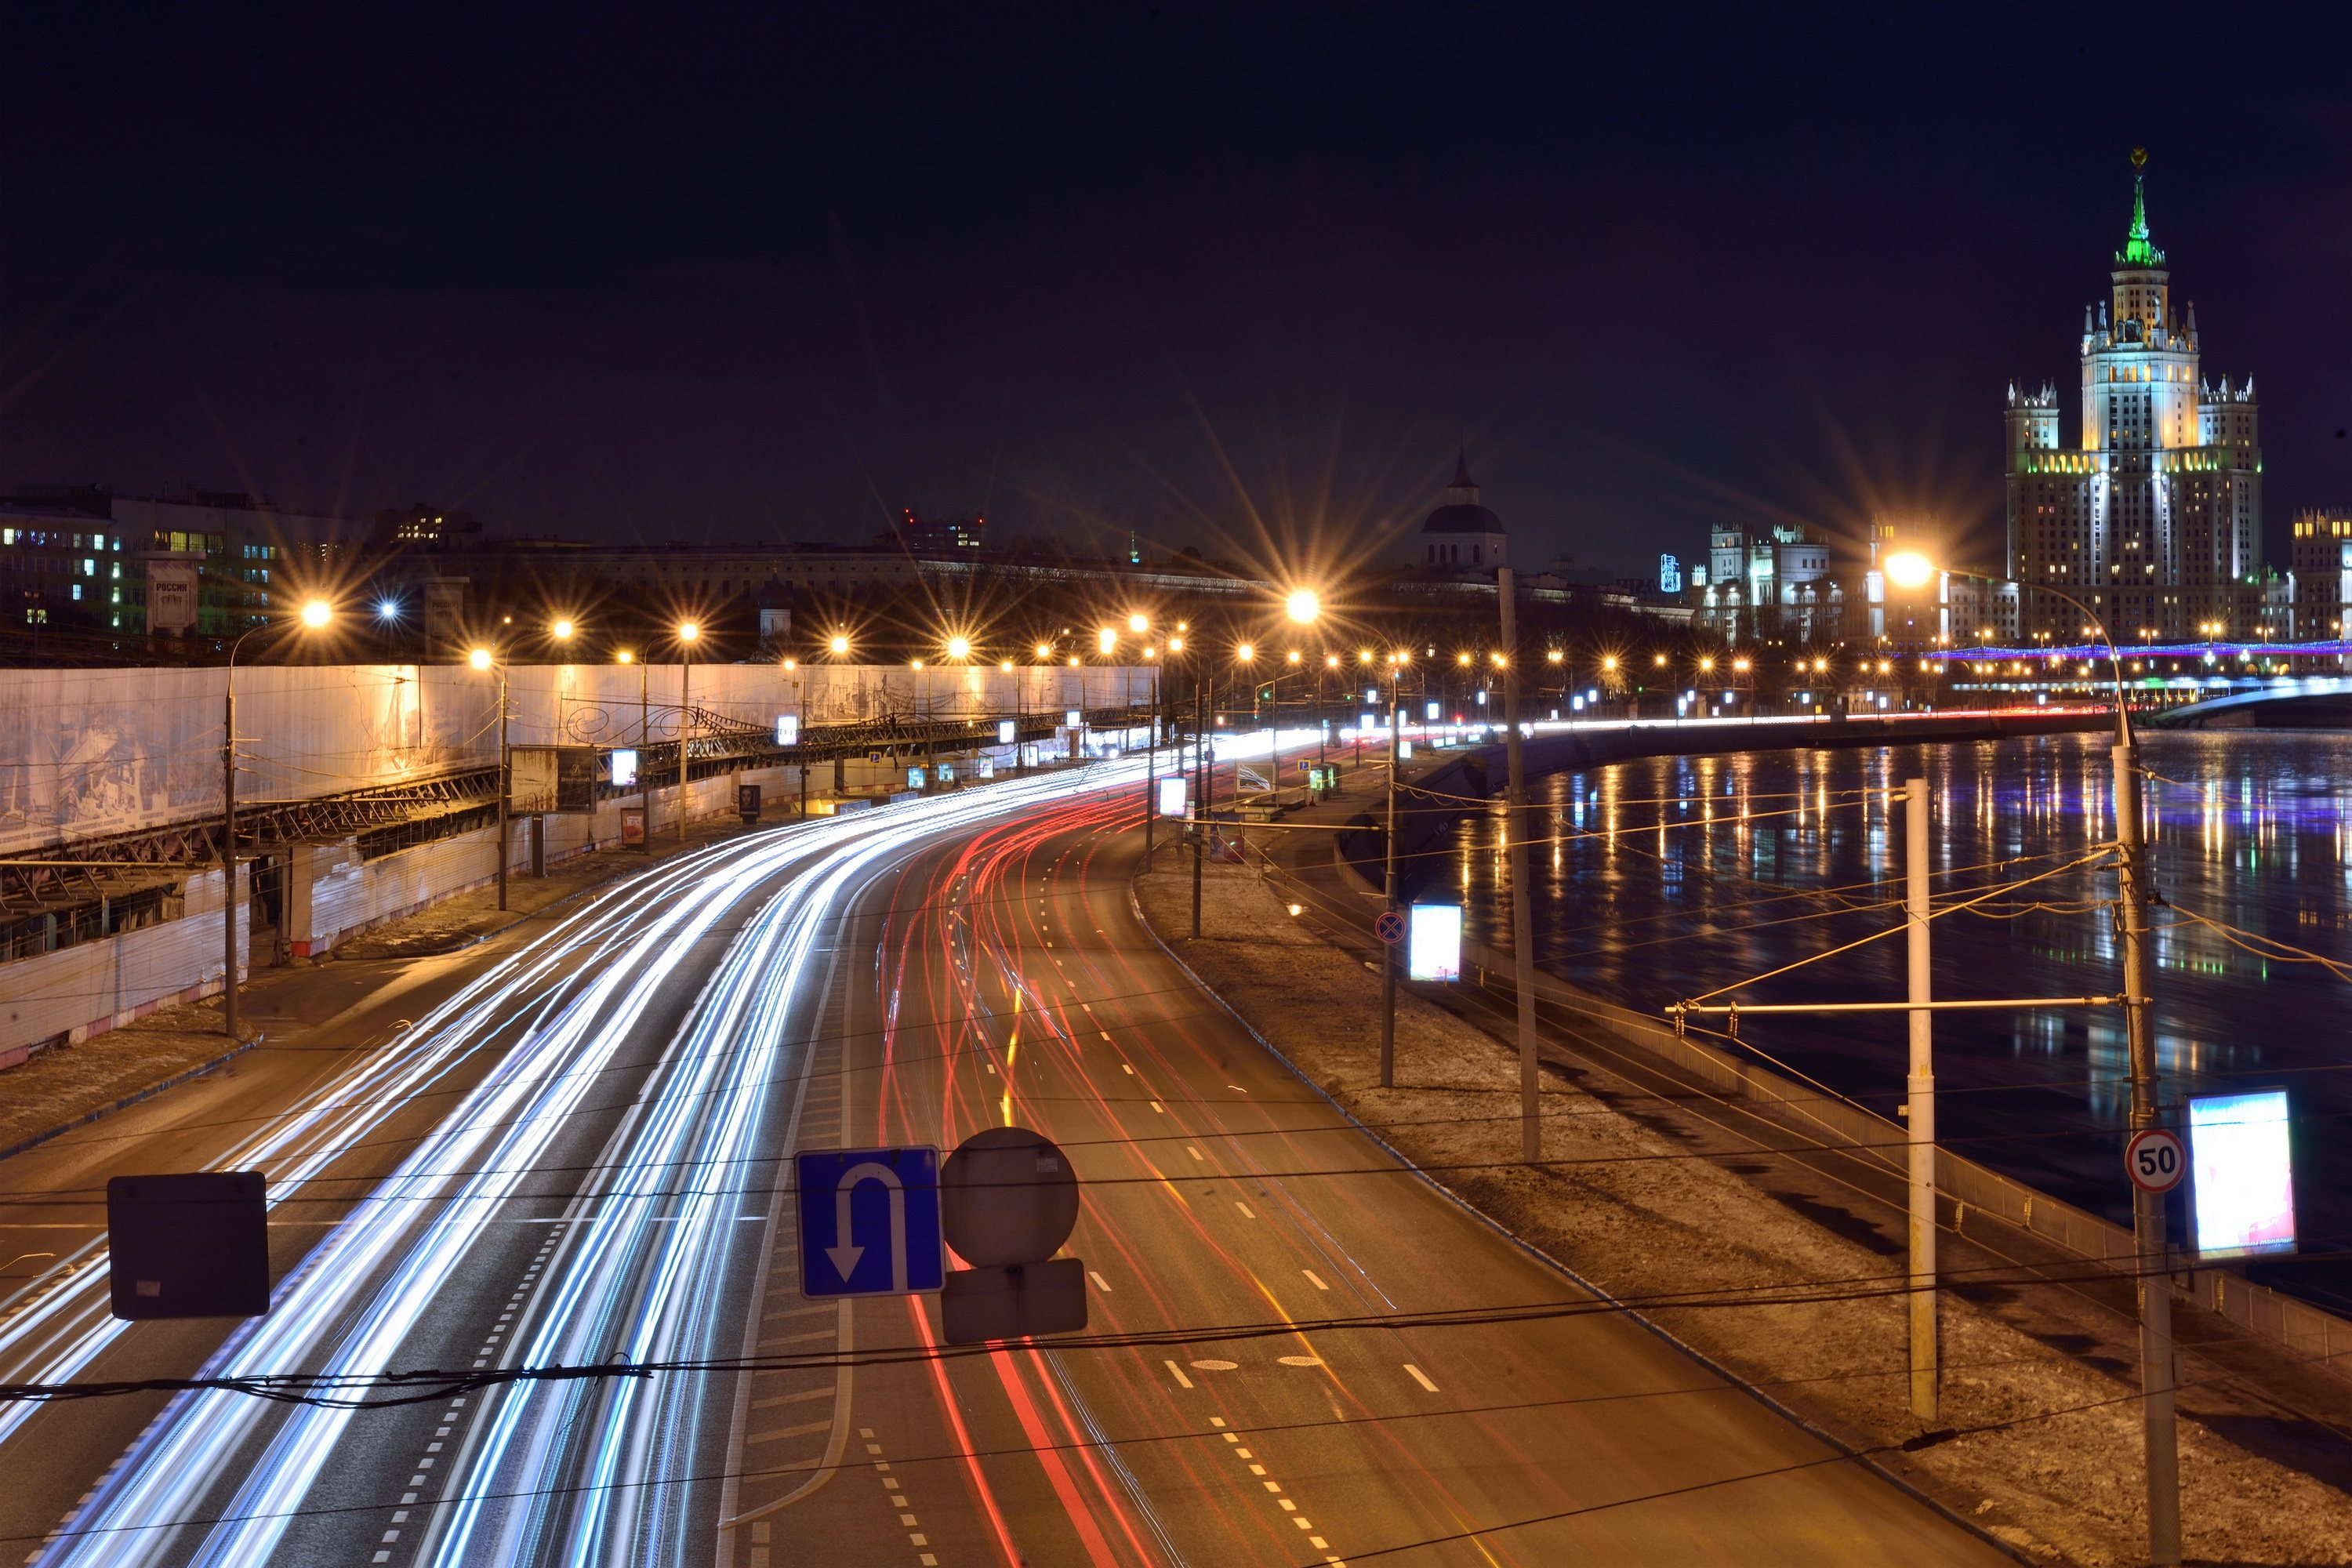sign: (791, 1145, 950, 1295), (2121, 1125, 2187, 1194), (1372, 908, 1409, 949), (1297, 756, 1312, 775)
